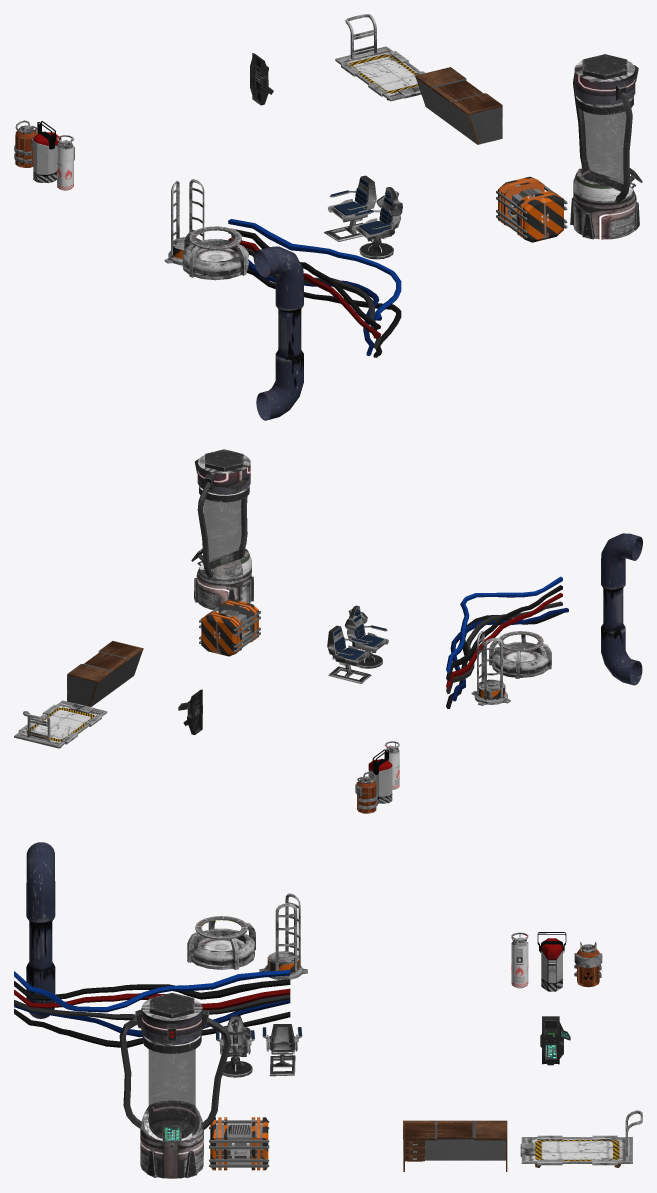
File: free_props_for_a_sci_fi_environment.glb
The picture shows the model from 3 angles, top to bottom: view 1: azimuth 30°, elevation 25°; view 2: azimuth 150°, elevation 25°; view 3: azimuth 270°, elevation 25°; orthographic projection. The views are drawn at different scales.
Visible parts, largest first — view 1: Energy_pod, pCylinder9, curve3, Table, Crate_01, Cart, Lab_Prop, Command_chair, Chair, Stand, Container_03, Container_gas1 (+2 smaller); view 2: Energy_pod, pCylinder9, curve3, Table, Crate_01, Cart, Lab_Prop, Stand, Chair, Command_chair, Container_03, Container_fuel (+1 smaller); view 3: Energy_pod, curve3, Table, pCylinder9, Cart, Crate_01, Lab_Prop, Stand, Command_chair, Chair, Container_03, Door_controls (+2 smaller).
Boxes of the visible parts, <box> form: Energy_pod: <box>570,54,642,239</box>; pCylinder9: <box>253,246,303,420</box>; curve3: <box>228,219,401,357</box>; Table: <box>415,67,502,144</box>; Crate_01: <box>496,176,567,242</box>; Cart: <box>335,14,425,101</box>; Lab_Prop: <box>182,226,248,280</box>; Command_chair: <box>352,187,402,259</box>; Chair: <box>324,175,376,241</box>; Stand: <box>164,179,204,265</box>; Container_03: <box>33,121,60,183</box>; Container_gas1: <box>56,135,74,190</box>; Energy_pod: <box>191,449,253,609</box>; pCylinder9: <box>601,533,642,685</box>; curve3: <box>446,576,568,708</box>; Table: <box>67,641,143,706</box>; Crate_01: <box>199,599,260,656</box>; Cart: <box>14,700,107,748</box>; Lab_Prop: <box>489,631,551,678</box>; Stand: <box>471,630,510,705</box>; Chair: <box>327,625,371,683</box>; Command_chair: <box>344,605,388,668</box>; Container_03: <box>368,749,392,803</box>; Container_fuel: <box>355,772,377,813</box>; Energy_pod: <box>119,992,231,1178</box>; curve3: <box>14,970,290,1047</box>; Table: <box>403,1120,507,1171</box>; pCylinder9: <box>26,842,55,1018</box>; Cart: <box>520,1110,642,1167</box>; Crate_01: <box>209,1117,269,1170</box>; Lab_Prop: <box>187,916,255,969</box>; Stand: <box>259,893,307,980</box>; Command_chair: <box>216,1015,254,1077</box>; Chair: <box>262,1024,302,1076</box>; Container_03: <box>537,932,566,991</box>; Door_controls: <box>540,1016,570,1065</box>.
Bounding box in the file's own units: 1.63 × 0.7305 × 2.
Materials: 6 (6 with a texture image).
